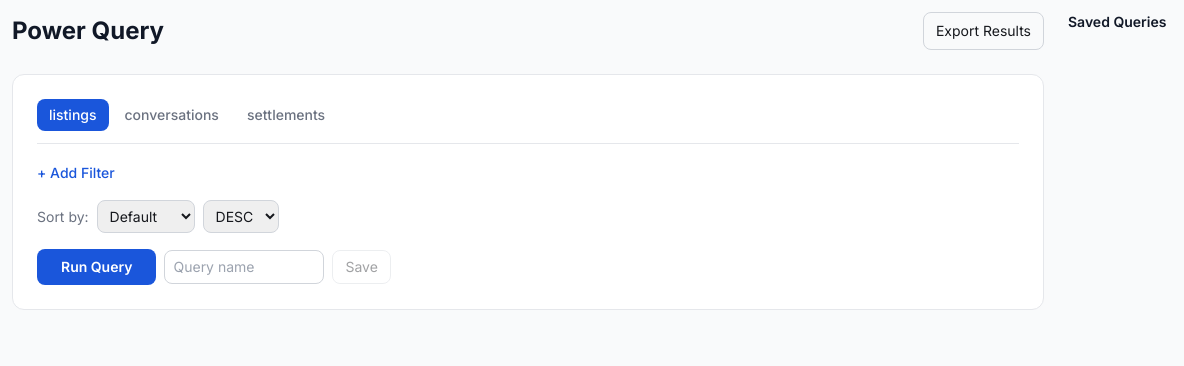
Test: AdminQuery — filter rows › "+ Add Filter" link adds a filter row with op select
What coordinates should you click on to do the following:
click the button "+ Add Filter"
I would click on:
 (76, 173)
Its box is [37,163,115,183].
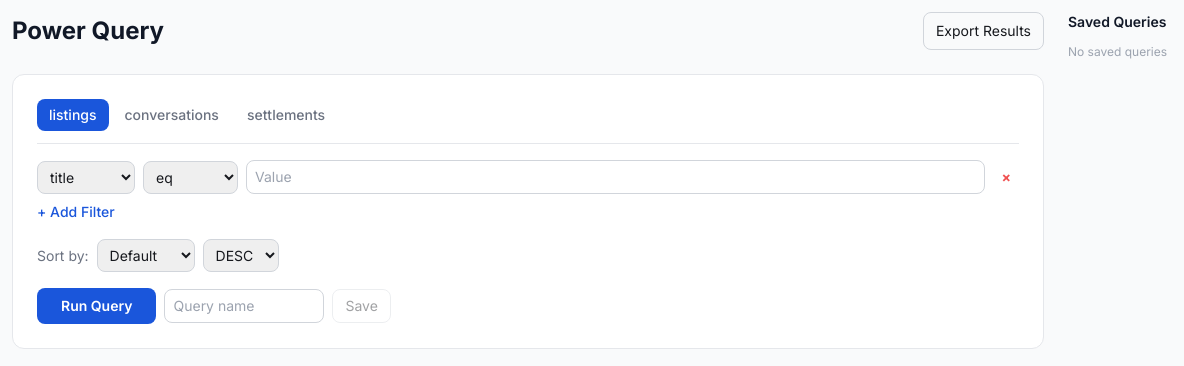
Now the 2nd dropdown showing "eq" is shown, box [143,160,238,194]
